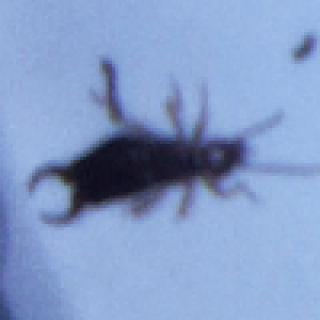earwig: (25, 70, 320, 230)
